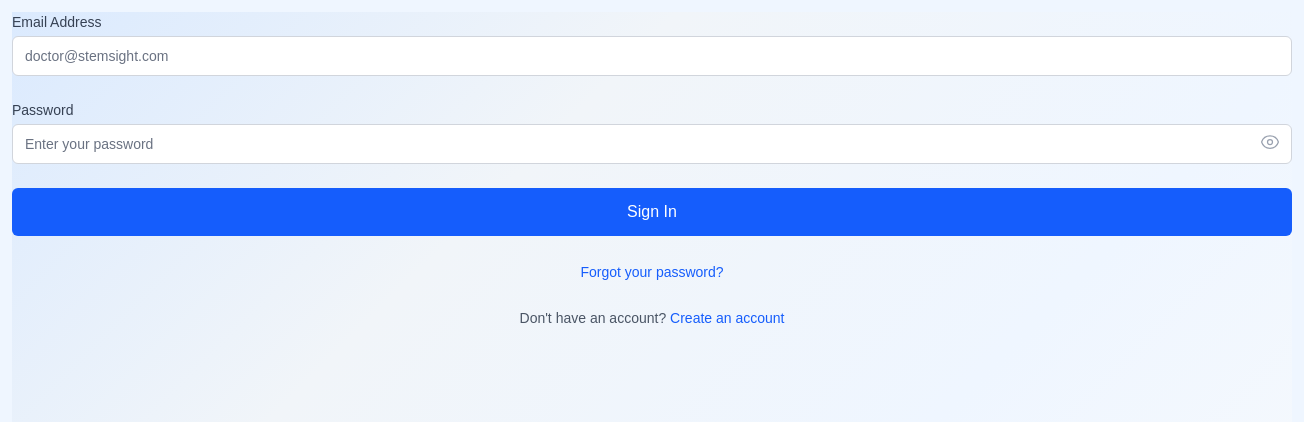
Test case: LoginForm › shows error for invalid email format
This screenshot has width=1304, height=422.
Type "invalid-email" into the field labelled "Email Address" at (652, 56), box [12,36,1292,76]
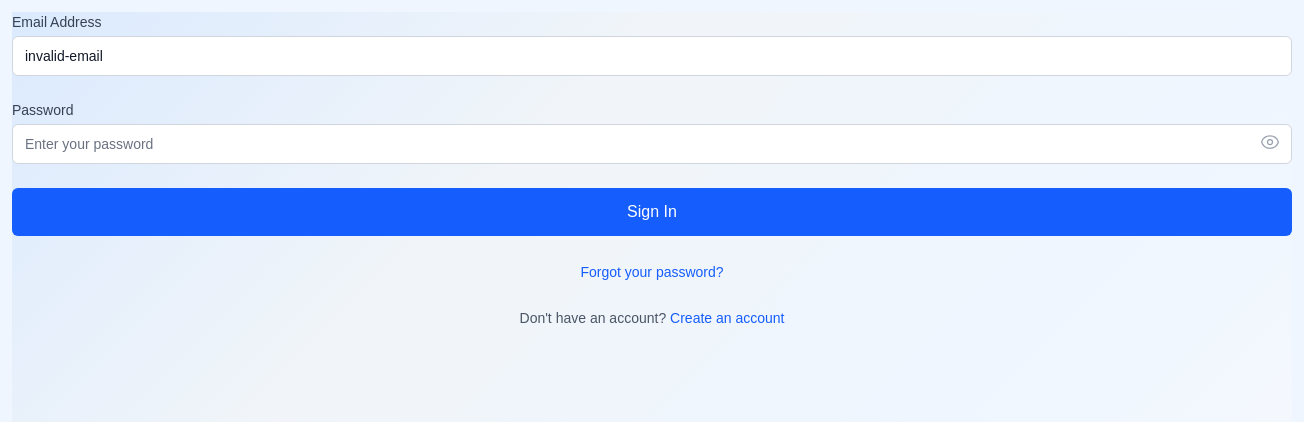
Type "password123" into the password field labelled "Password" at (652, 144), box [12,124,1292,164]
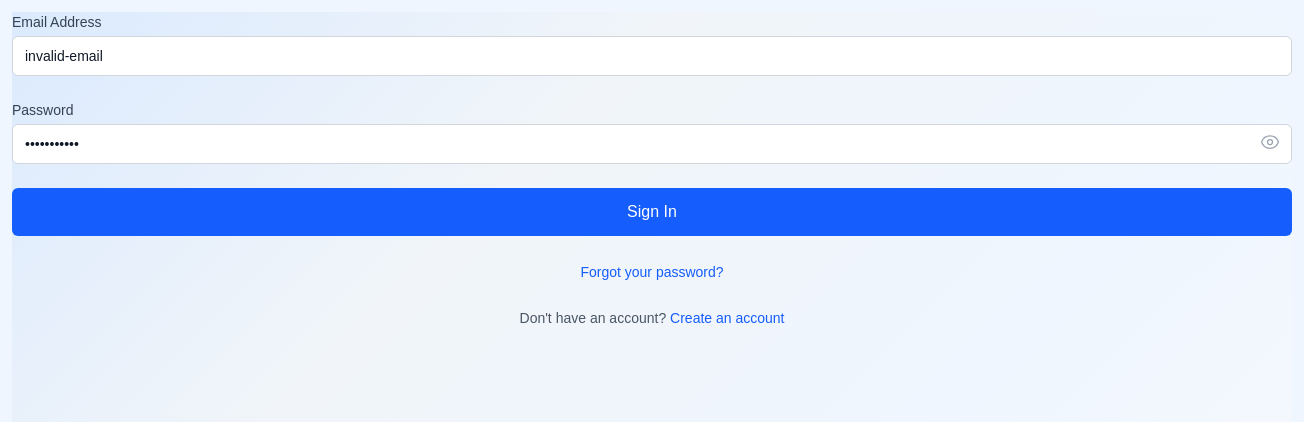
Click the button "Sign In" at (652, 212), box [12,188,1292,236]
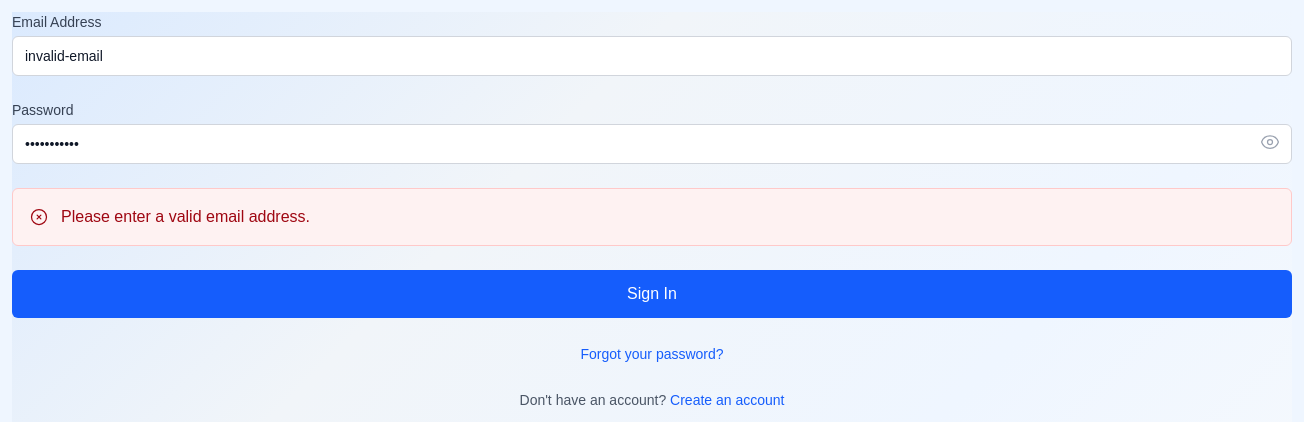
Expected: the text "Please enter a valid email address." is shown, [61,208,310,225]
